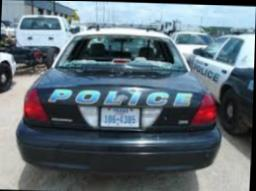Windshield: (57, 37, 187, 68)
